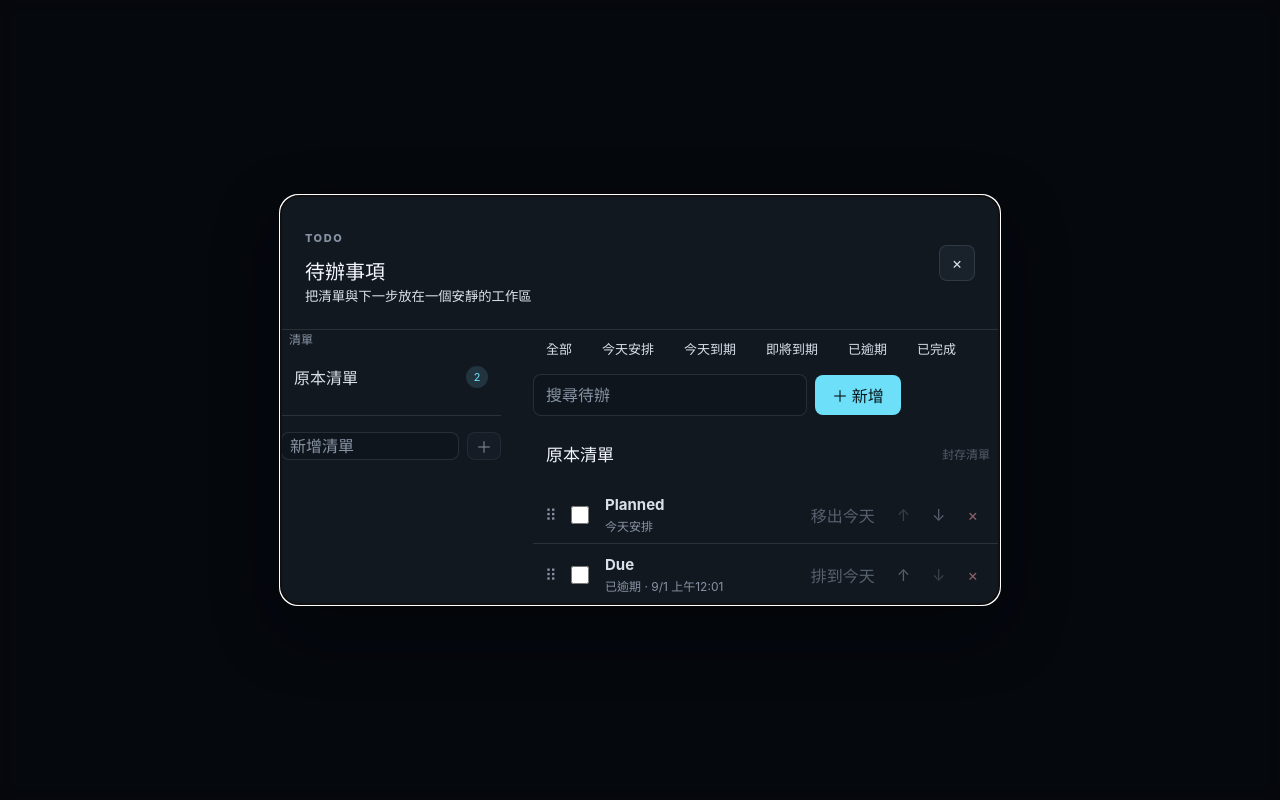
TodoDialog list binding › filters planned Today and due Today independently
Click the button "今天安排".
click(628, 348)  # box [589,330,667,366]
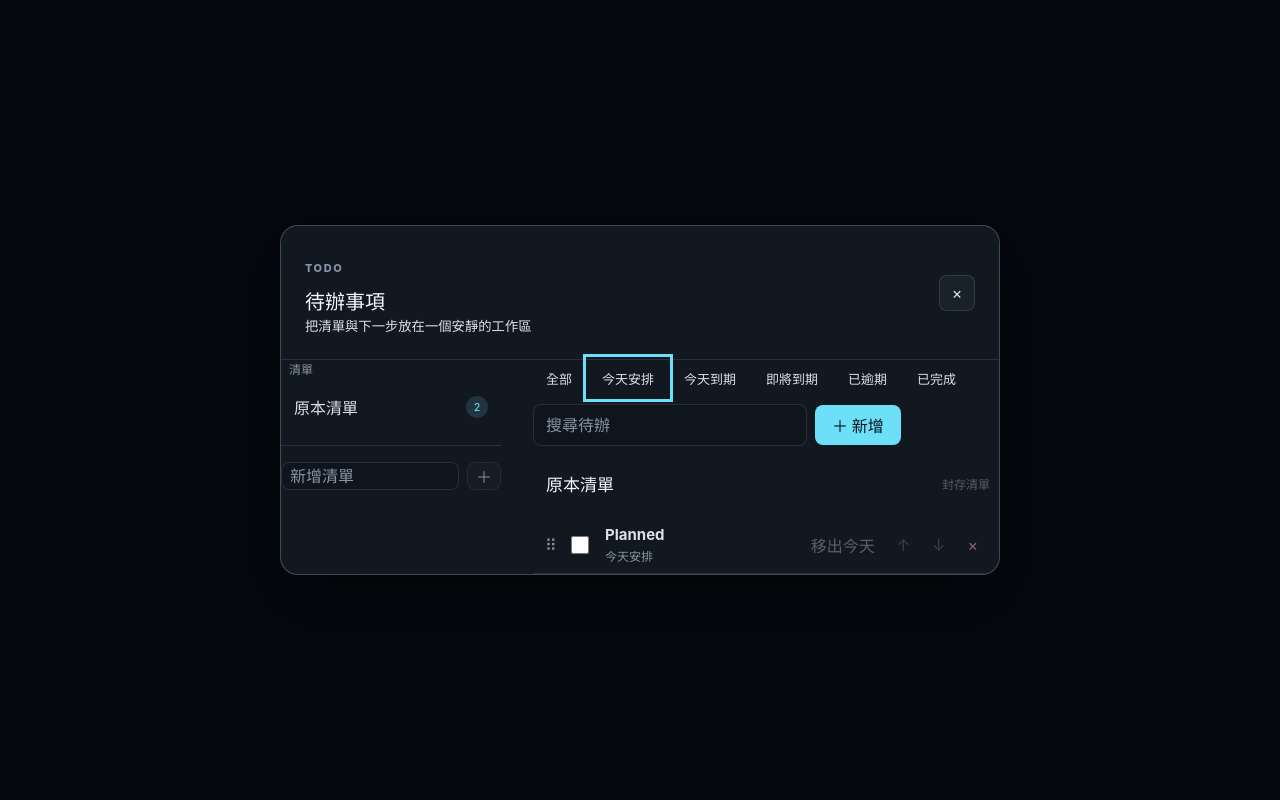
Check: the text "Planned" is shown, box [605,525,665,544]
Check: the button "Due" is gone
Click the button "今天到期".
click(710, 378)  # box [671,360,749,396]
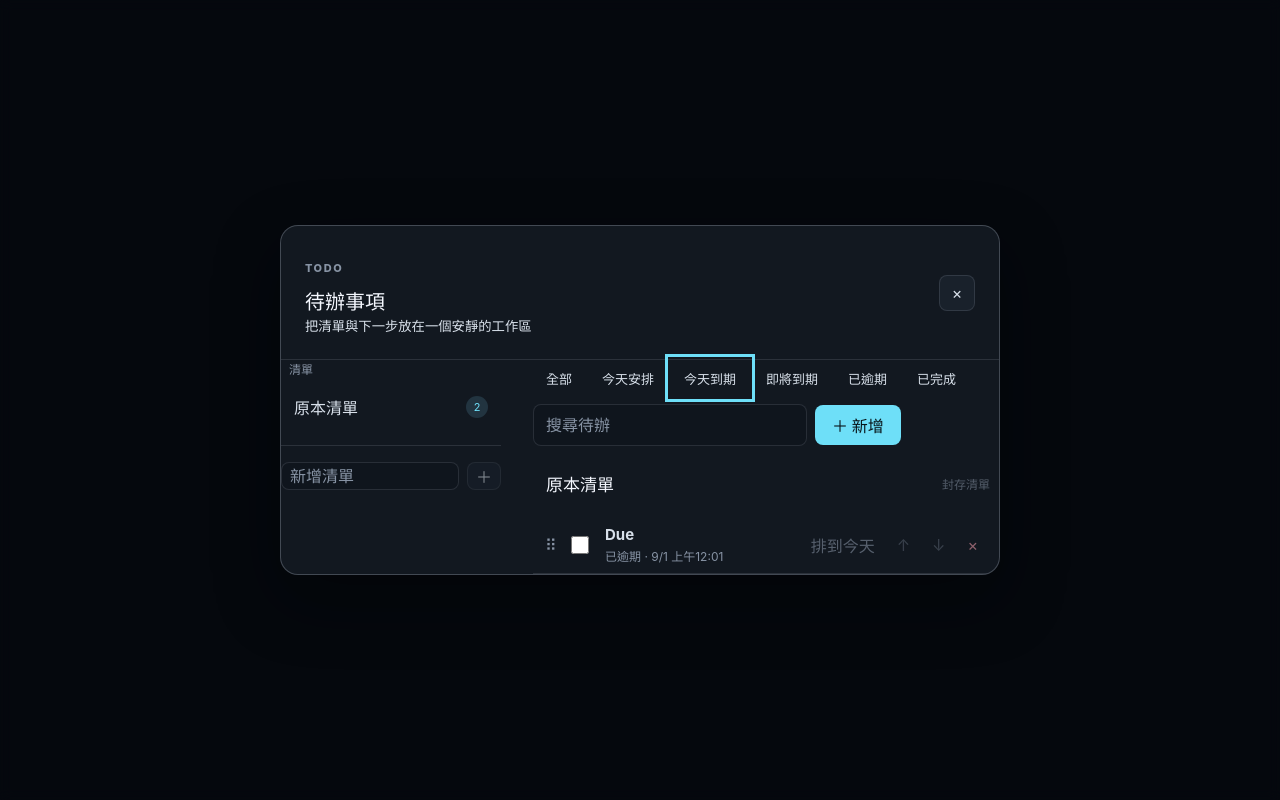
Check: the text "Due" is shown, box [605,525,634,544]
Check: the button "Planned" is gone
